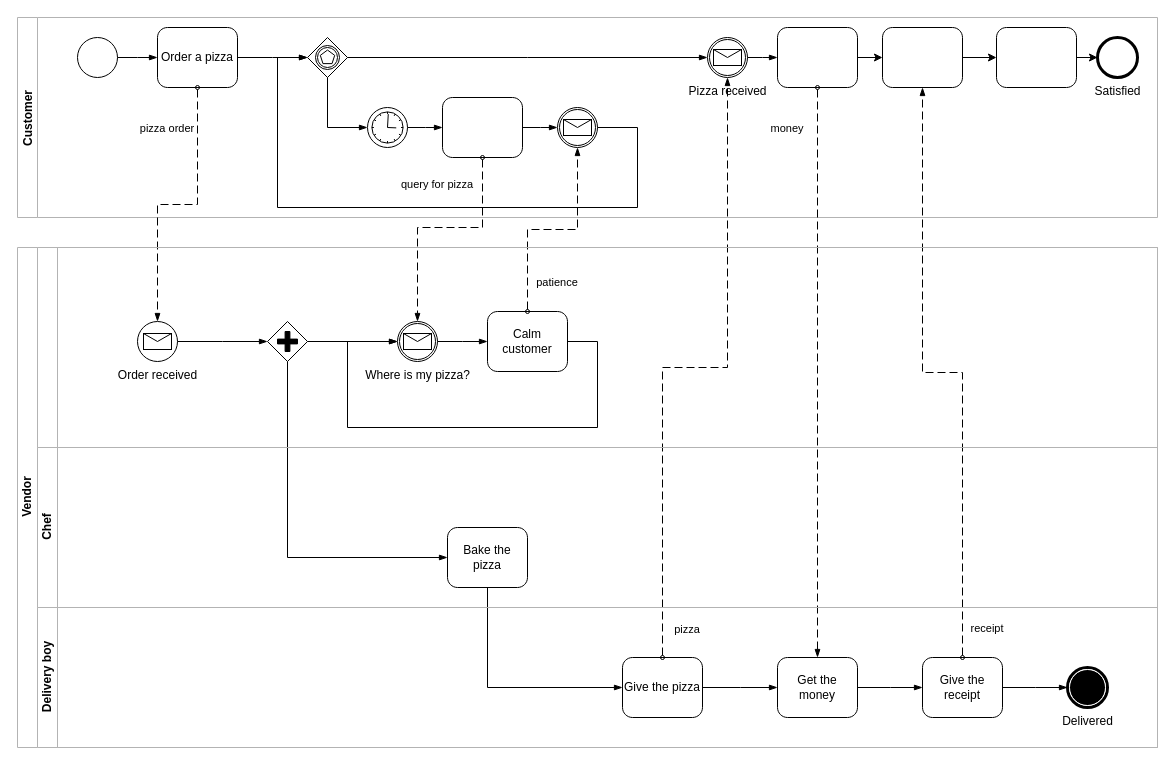
This 1175x765 diagram has some shape labels left out. Each missing label, with the centre of its shape:
"60 minutes" belongs at point 387,127.
"Ask for pizza" belongs at point 482,127.
"Clerk" belongs at point 597,347.
"Eat the pizza" belongs at point 1036,57.
"Get receipt" belongs at point 922,57.
"Hungry" belongs at point 97,57.
"Pay the pizza" belongs at point 817,57.
"Pizza on its way" belongs at point 577,127.
